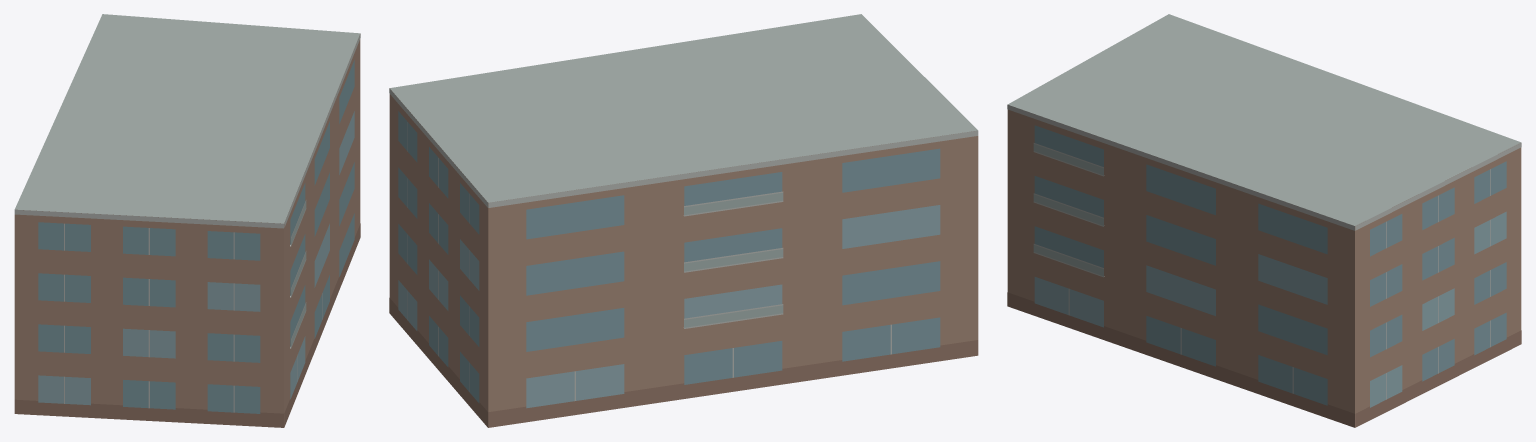
Rendered from survey-upis-32974314.glb.
3 views of the same model, side by side, from view 1: azimuth 30°, elevation 25°; view 2: azimuth 150°, elevation 25°; view 3: azimuth 270°, elevation 25° (orthographic). The views are drawn at different scales.
Parts seen in each view (by area): view 1: survey-upis-32974314.tmp; view 2: survey-upis-32974314.tmp; view 3: survey-upis-32974314.tmp.
Boxes of the visible parts, x1,y1,x2,y2 form: survey-upis-32974314.tmp: [14, 14, 360, 427]; survey-upis-32974314.tmp: [389, 14, 978, 427]; survey-upis-32974314.tmp: [1007, 14, 1521, 427].
Bounding box in the file's own units: 23 × 10.2 × 23.55.
